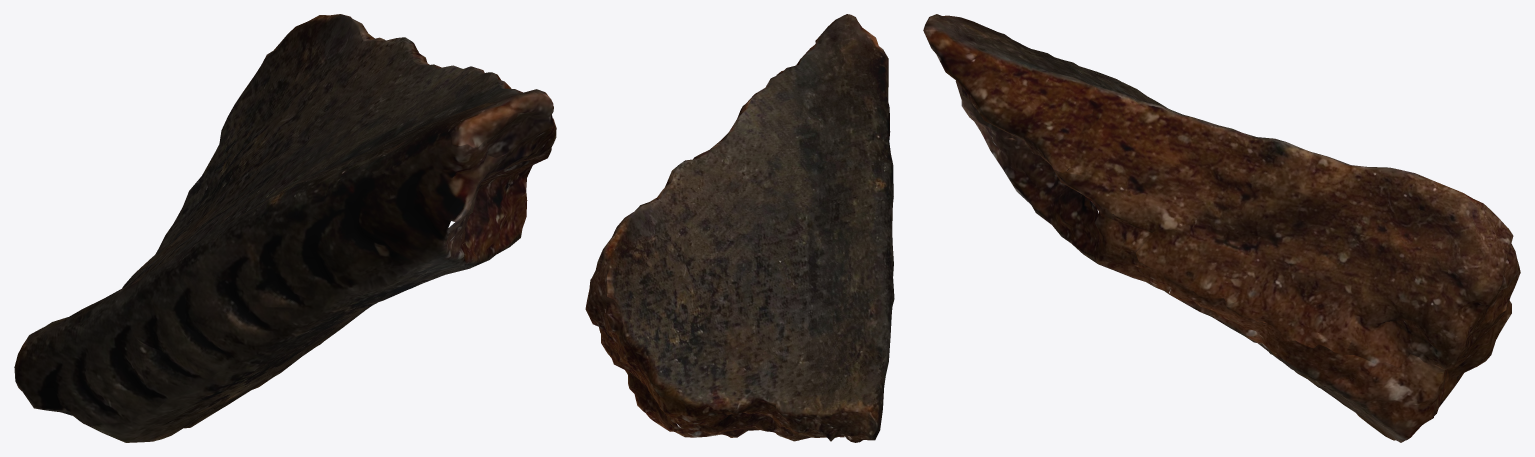
Rendered from piece14_10000_resHi.glb.
The picture shows the model from 3 angles, left to right: view 1: azimuth 30°, elevation 25°; view 2: azimuth 150°, elevation 25°; view 3: azimuth 270°, elevation 25°; orthographic projection. The views are drawn at different scales.
Size of the model in its own units: 0.2871 by 0.333 by 0.4268.
1 material, 1 textured.
